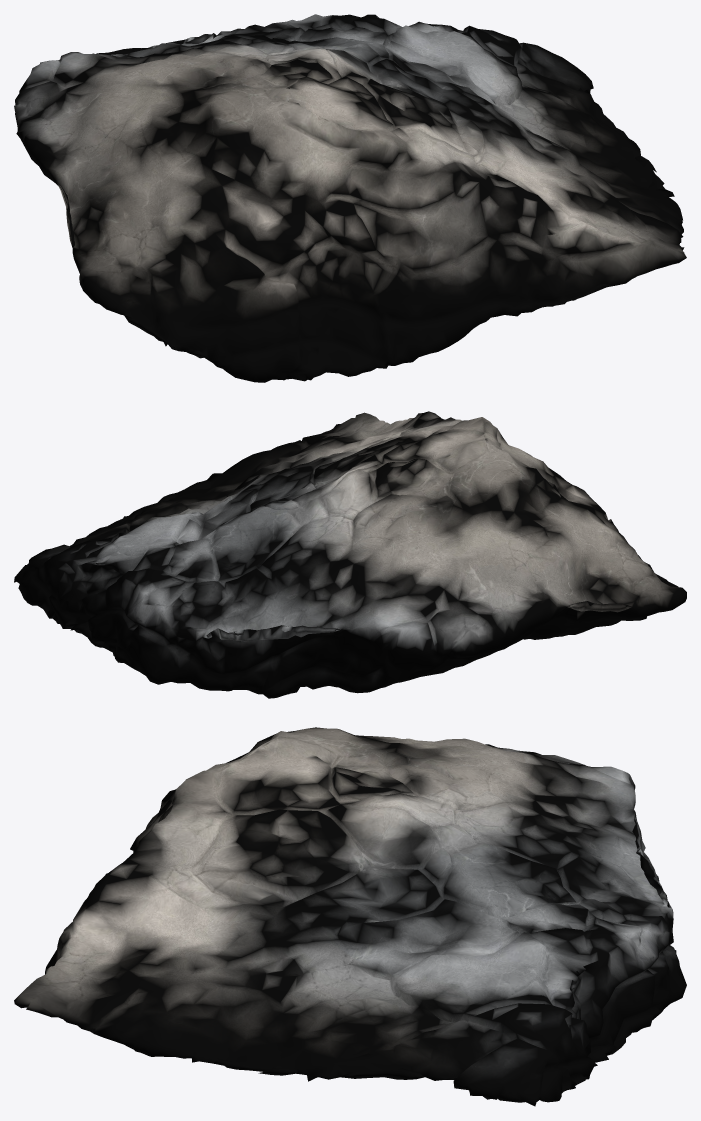
Rendered from headland_a.opt.glb.
The picture shows the model from 3 angles, top to bottom: view 1: azimuth 30°, elevation 25°; view 2: azimuth 150°, elevation 25°; view 3: azimuth 270°, elevation 25°; orthographic projection. The views are drawn at different scales.
Parts seen in each view (by area): view 1: headland_a; view 2: headland_a; view 3: headland_a.
Part boxes in pixels (<box>): headland_a: <box>14,14,686,382</box>; headland_a: <box>14,411,686,698</box>; headland_a: <box>14,727,686,1106</box>.
Bounding box in the file's own units: 4.03 × 1.33 × 3.75.
Materials: 1 (1 with a texture image).
